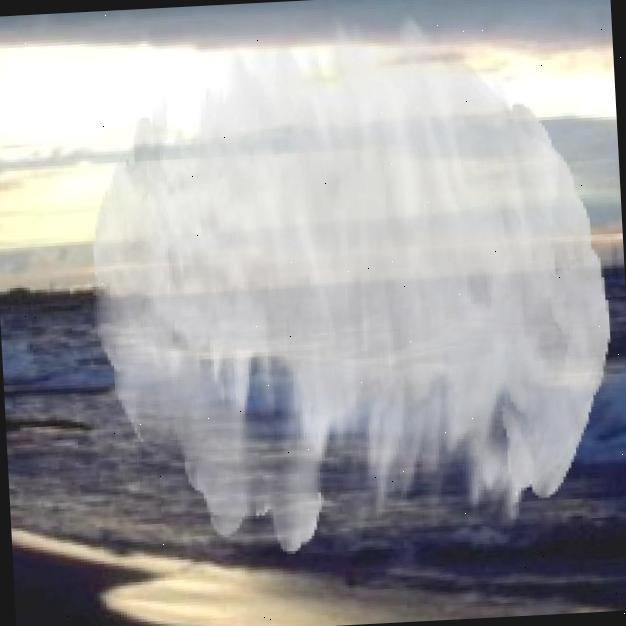smoke: (79, 0, 620, 563)
